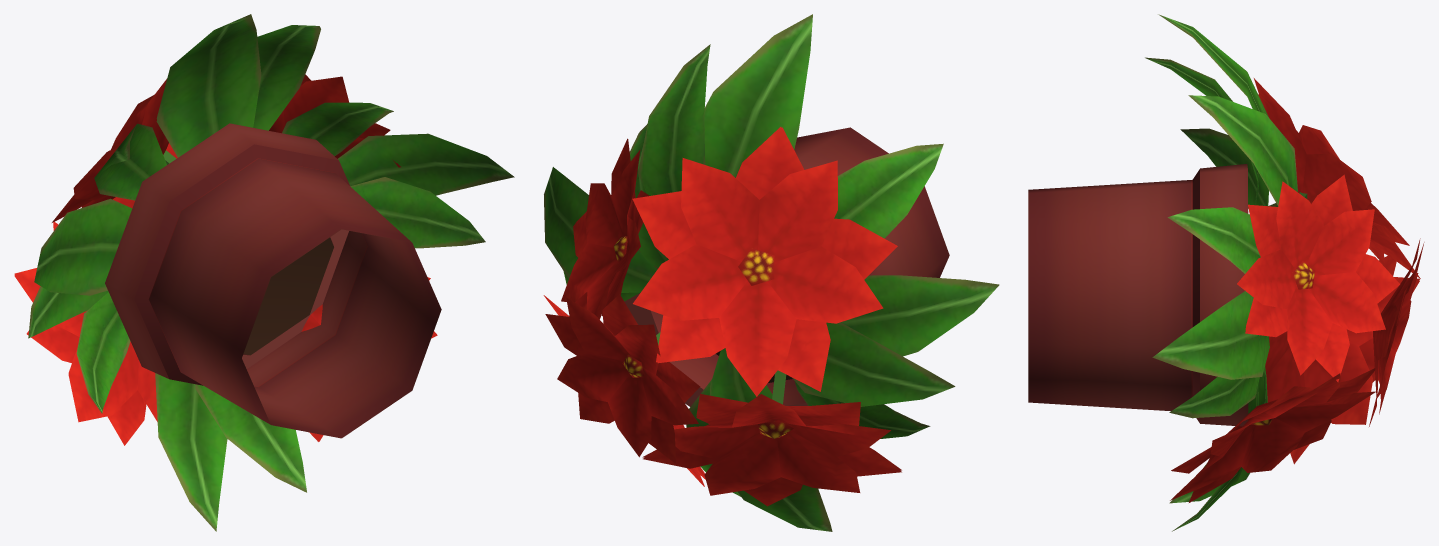
The model's file is Poinsettia.fbx.
3 renders of one model, left to right at view 1: azimuth 30°, elevation 25°; view 2: azimuth 150°, elevation 25°; view 3: azimuth 270°, elevation 25°, orthographic.
Visible parts, largest first — view 1: Poinsettia; view 2: Poinsettia; view 3: Poinsettia.
Boxes of the visible parts, x1,y1,x2,y2 form: Poinsettia: (14,14,514,531); Poinsettia: (543,14,999,531); Poinsettia: (1028,14,1424,531).
Bounding box in the file's own units: 7.66 × 8.06 × 5.77.
